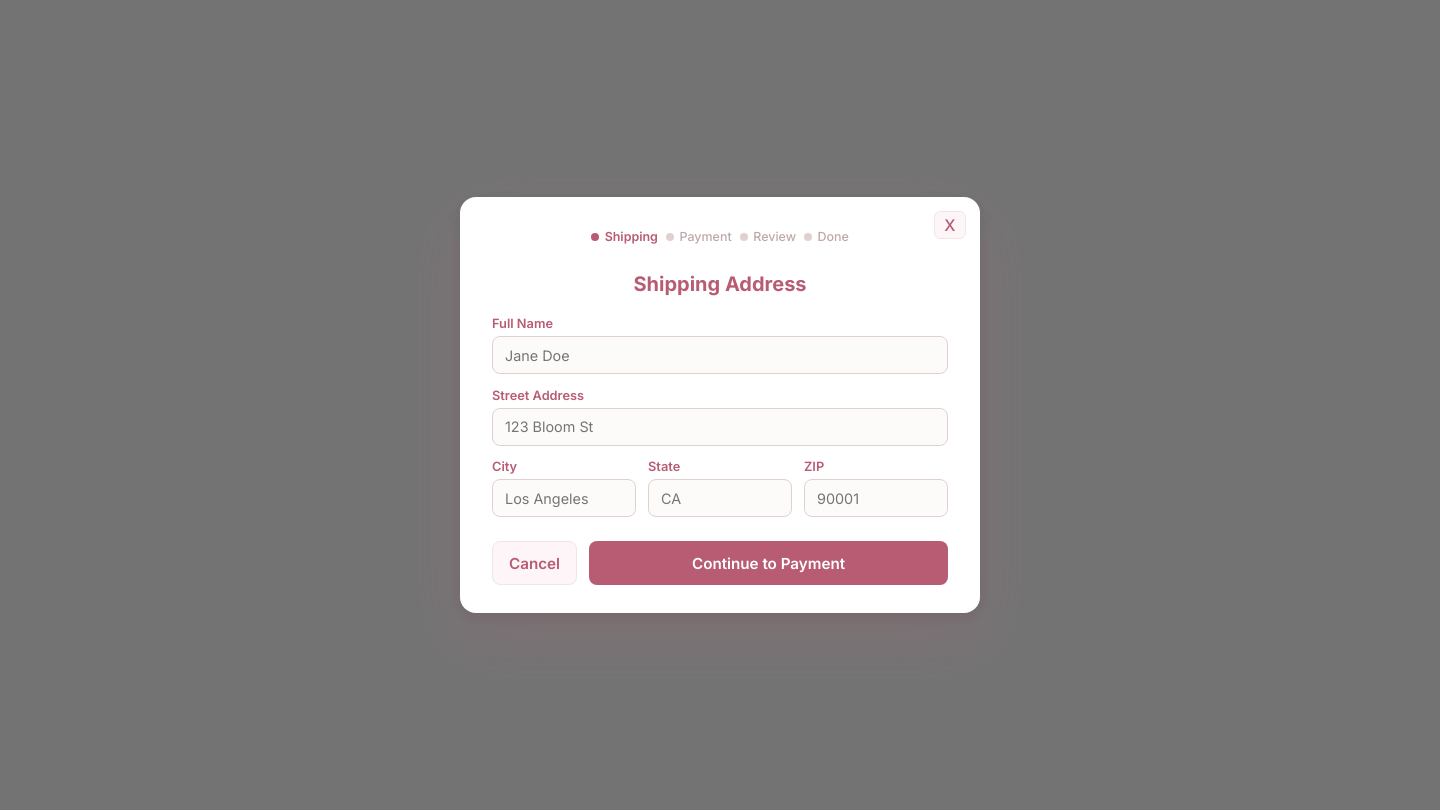
Test case: CheckoutModal › navigates to payment step
Click the button "Continue to Payment" at (768, 563), box [589,541,948,585]
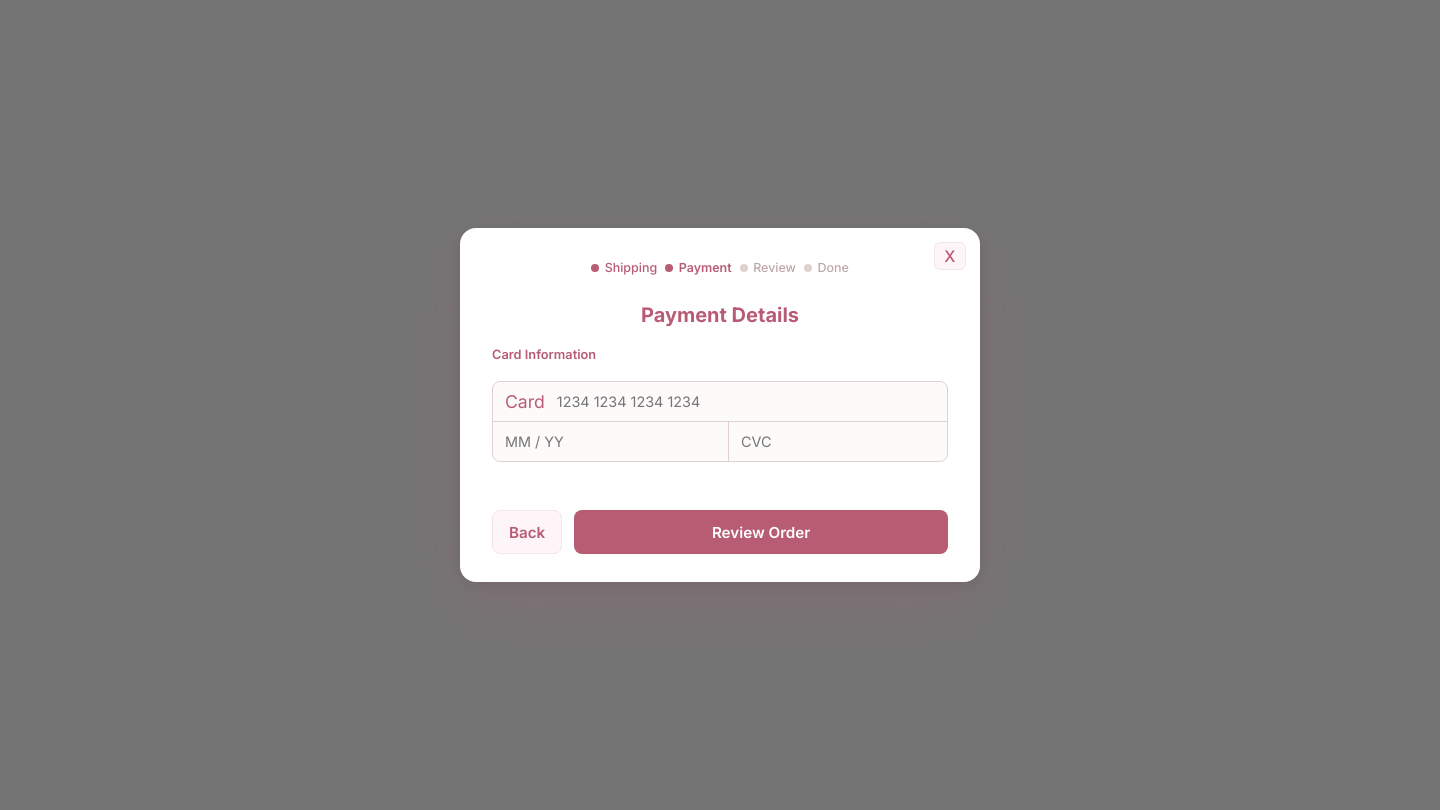
Check: the heading "Payment Details" is shown, box [641,303,799,327]
Check: the field with placeholder "1234 1234 1234 1234" is shown, box [545,382,947,421]
